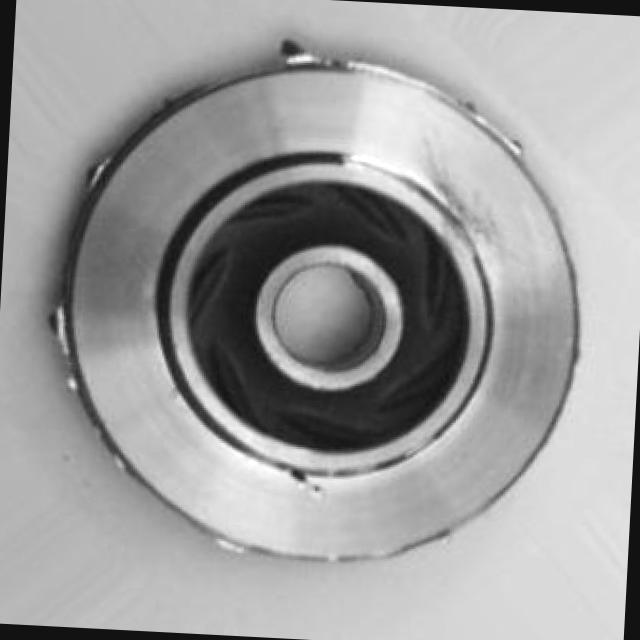Defect: (270, 21, 321, 78)
